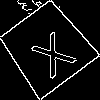X: (22, 23, 78, 79)
